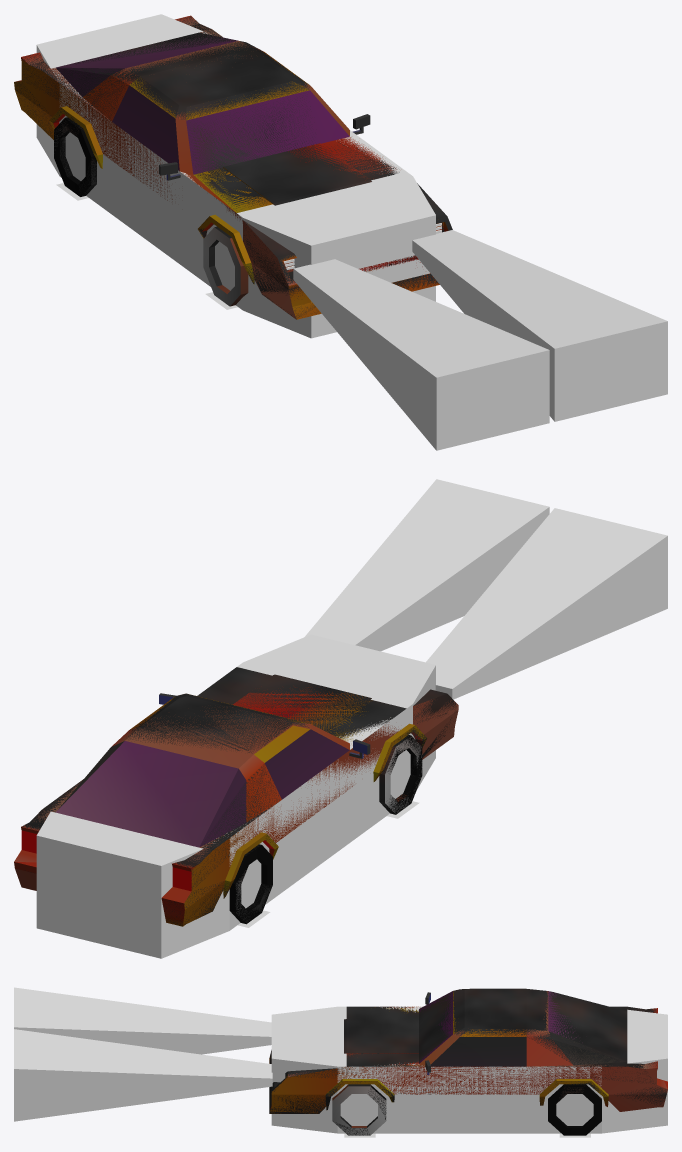
The model's file is Nova.fbx.
The picture shows the model from 3 angles, top to bottom: view 1: azimuth 30°, elevation 25°; view 2: azimuth 150°, elevation 25°; view 3: azimuth 270°, elevation 25°; orthographic projection. The views are drawn at different scales.
Visible parts, largest first — view 1: nova_gr, nova_cldr, nova, nova_dead, nova_frontwheels, nova_lckd, nova_rearwheels; view 2: nova_gr, nova_cldr, nova, nova_dead, nova_lckd, nova_frontwheels; view 3: nova_gr, nova_cldr, nova_dead, nova, nova_lckd, nova_frontwheels.
Boxes of the visible parts, x1,y1,x2,y2 form: nova_gr: [293, 230, 667, 450]; nova_cldr: [36, 14, 435, 338]; nova: [14, 15, 448, 319]; nova_dead: [14, 16, 452, 319]; nova_frontwheels: [203, 226, 248, 306]; nova_lckd: [54, 117, 96, 196]; nova_rearwheels: [54, 119, 96, 196]; nova_gr: [305, 479, 667, 699]; nova_cldr: [36, 634, 435, 958]; nova: [14, 687, 458, 926]; nova_dead: [21, 667, 457, 925]; nova_lckd: [229, 735, 422, 924]; nova_frontwheels: [379, 735, 422, 813]; nova_gr: [14, 987, 272, 1121]; nova_cldr: [271, 1006, 667, 1133]; nova_dead: [269, 988, 667, 1113]; nova: [269, 991, 667, 1113]; nova_lckd: [336, 1084, 601, 1135]; nova_frontwheels: [332, 1084, 386, 1135].
Size of the model in its own units: 4.1 by 2.22 by 13.9.
